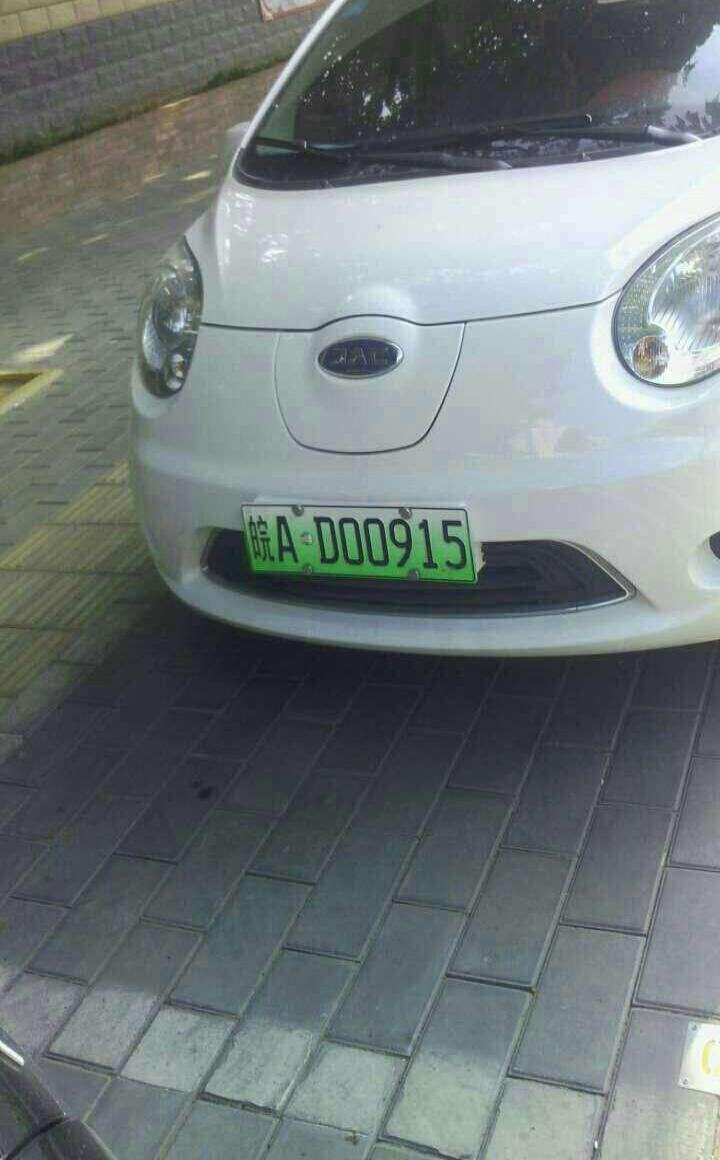car_id: (243, 505, 479, 578)
